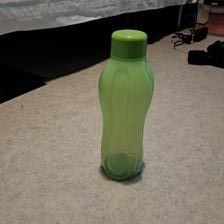bottle: (93, 26, 157, 178)
